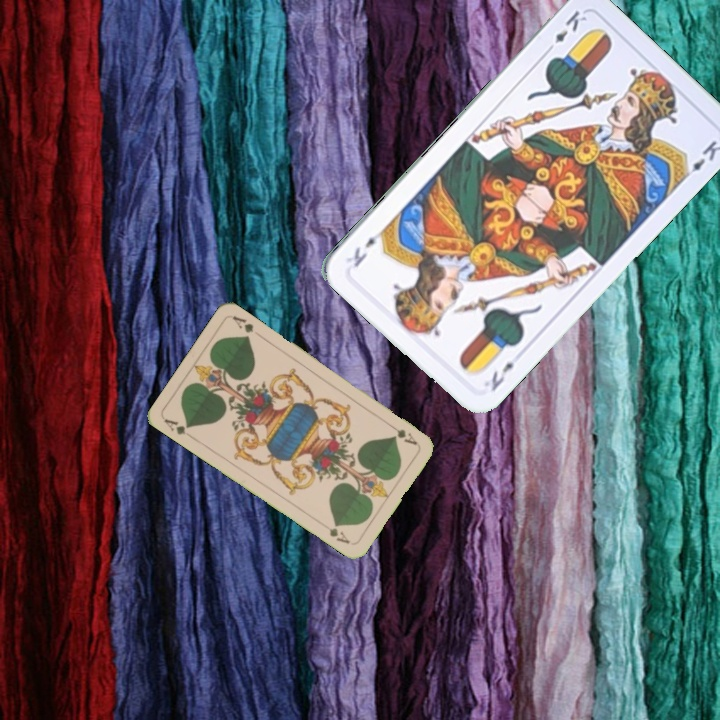EK: (541, 6, 590, 56), (480, 358, 517, 394)
GA: (384, 420, 420, 448), (160, 415, 196, 442)
